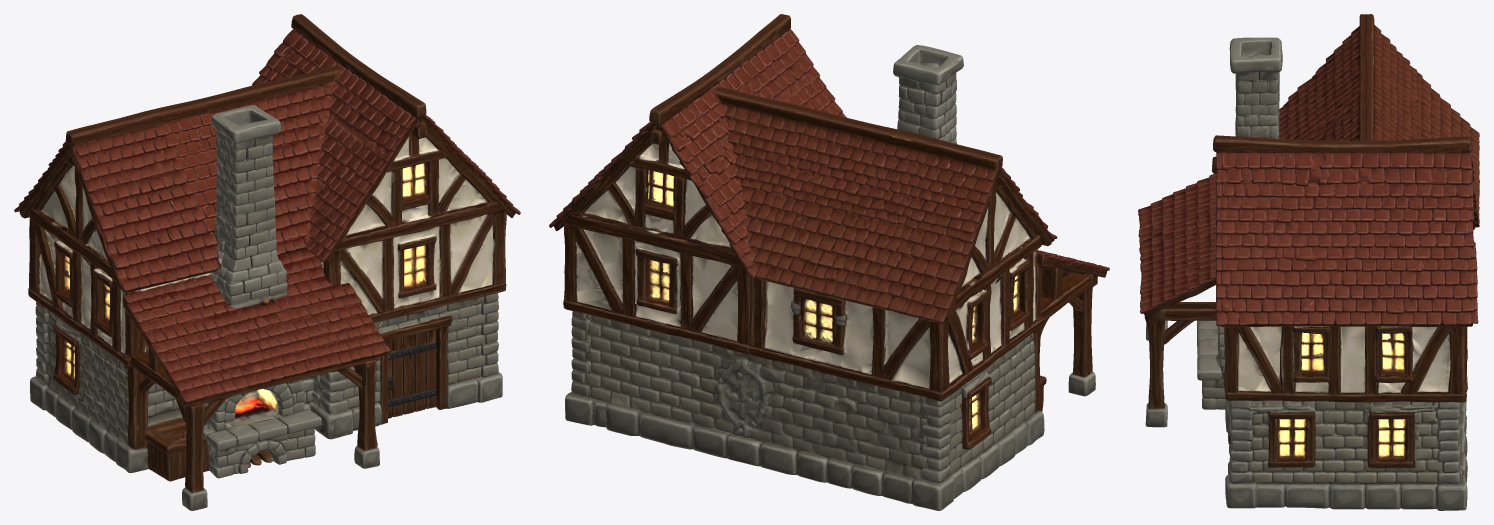
File: OakHillSmith_300k.glb
3 renders of one model, left to right at view 1: azimuth 30°, elevation 25°; view 2: azimuth 150°, elevation 25°; view 3: azimuth 270°, elevation 25°, orthographic. The views are drawn at different scales.
Parts seen in each view (by area): view 1: Mesh_0; view 2: Mesh_0; view 3: Mesh_0.
Boxes of the visible parts, x1,y1,x2,y2 form: Mesh_0: (14, 14, 520, 510); Mesh_0: (549, 14, 1109, 510); Mesh_0: (1138, 14, 1479, 510).
Bounding box in the file's own units: 1.89 × 1.57 × 1.43.
1 material, 1 textured.
